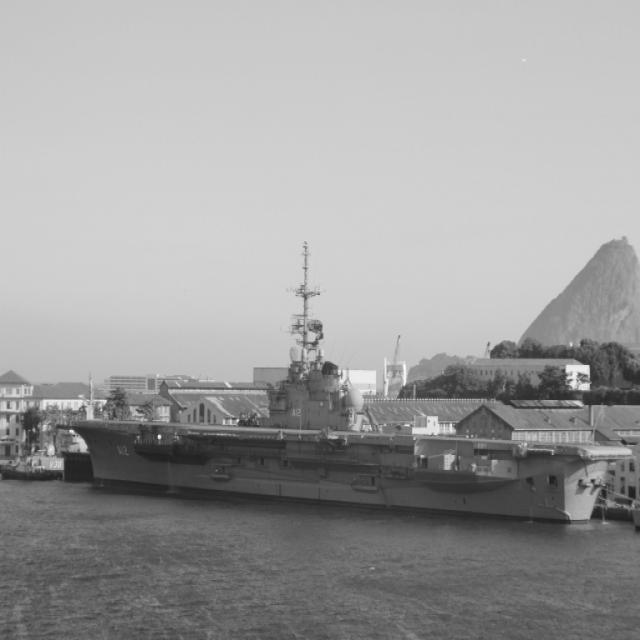Portanaves: (53, 232, 640, 531)
